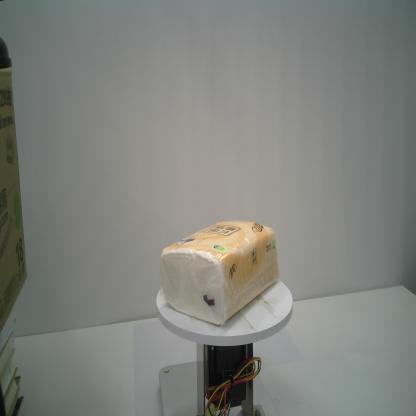Tissue: (158, 215, 280, 328)
